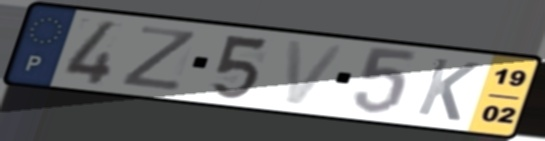4: (64, 18, 118, 86)
5: (349, 46, 420, 119), (207, 32, 275, 101)
K: (412, 55, 483, 124)
V: (283, 38, 350, 108)
Z: (116, 24, 201, 93)
